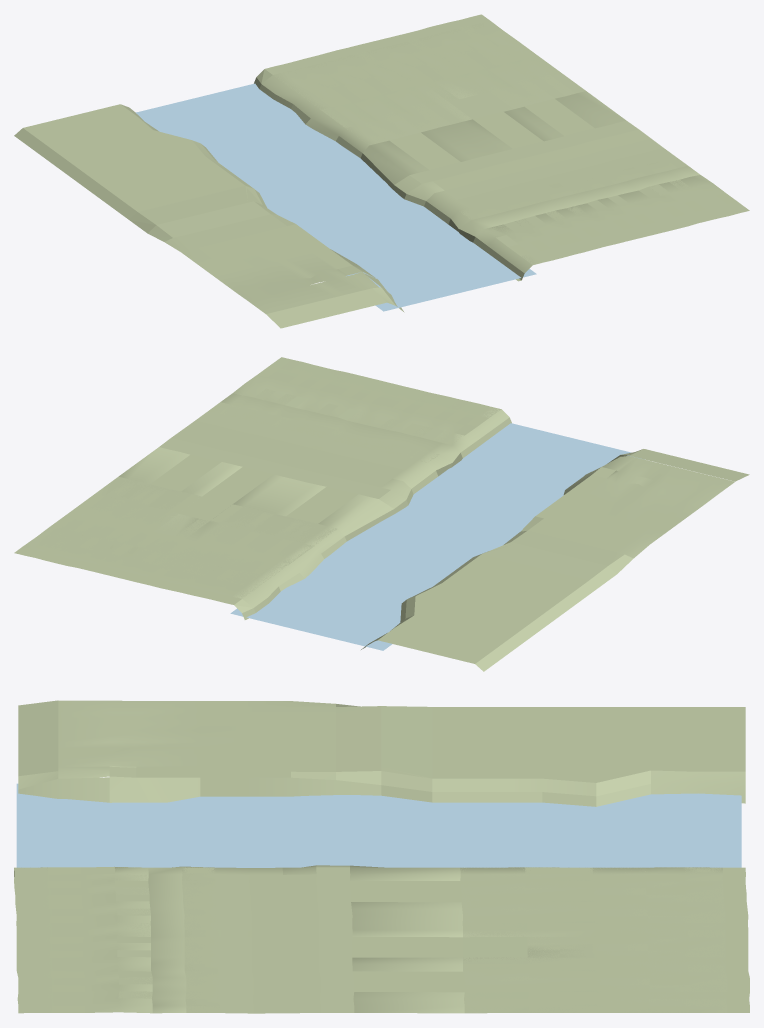
File: terain.glb
3 renders of one model, top to bottom at view 1: azimuth 30°, elevation 25°; view 2: azimuth 150°, elevation 25°; view 3: azimuth 270°, elevation 25°, orthographic. The views are drawn at different scales.
Visible parts, largest first — view 1: Ground, Water; view 2: Ground, Water; view 3: Ground, Water.
Boxes of the visible parts, x1=… form: Ground: x1=14, y1=14, x2=749, y2=328; Water: x1=136, y1=83, x2=536, y2=311; Ground: x1=14, y1=357, x2=749, y2=671; Water: x1=230, y1=423, x2=644, y2=650; Ground: x1=14, y1=700, x2=749, y2=1013; Water: x1=16, y1=783, x2=741, y2=867.
Size of the model in its own units: 40.2 by 1.53 by 40.04.
